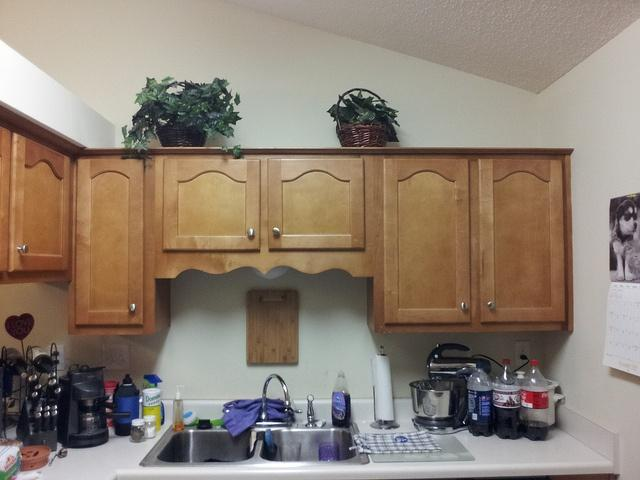Lemari: (375, 151, 569, 330), (152, 154, 374, 257), (68, 155, 151, 334)
